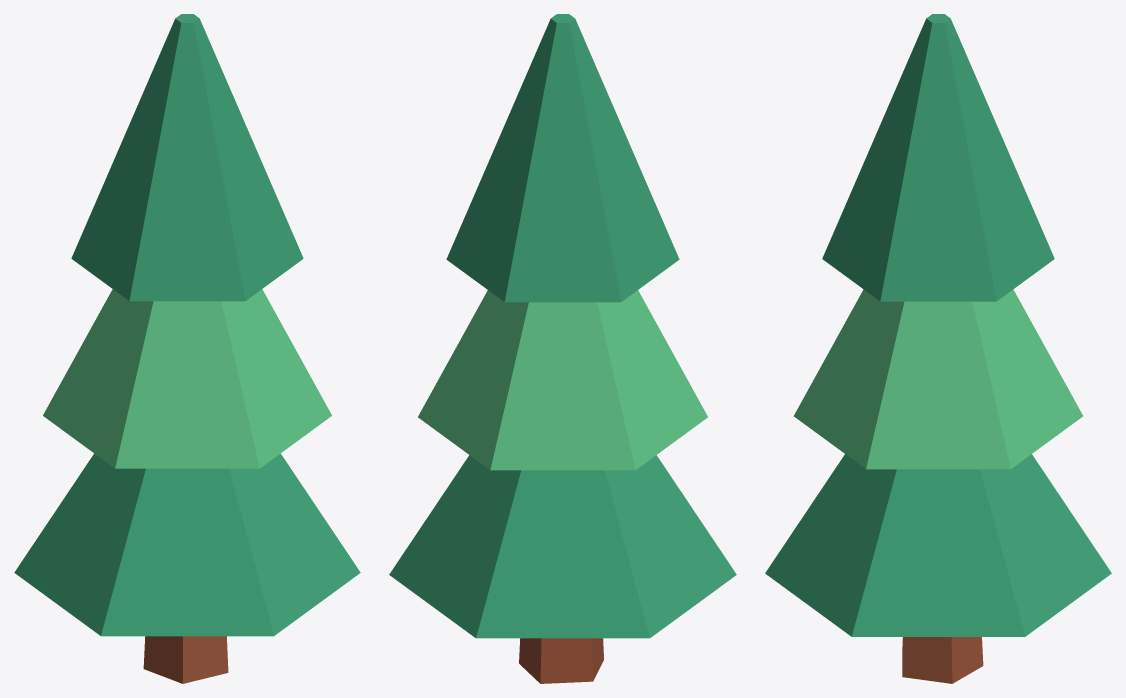
The model's file is unit-tree.glb.
The picture shows the model from 3 angles, left to right: view 1: azimuth 30°, elevation 25°; view 2: azimuth 150°, elevation 25°; view 3: azimuth 270°, elevation 25°; orthographic projection.
Parts seen in each view (by area): view 1: unit_tree; view 2: unit_tree; view 3: unit_tree.
Boxes of the visible parts, x1,y1,x2,y2 form: unit_tree: (14, 14, 360, 683); unit_tree: (389, 14, 736, 683); unit_tree: (765, 14, 1111, 683).
Size of the model in its own units: 0.2797 by 0.665 by 0.323.
Materials: 1 (1 with a texture image).
